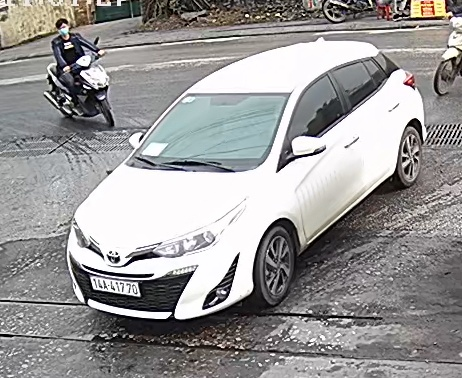vehicle plate: (86, 272, 147, 296)
